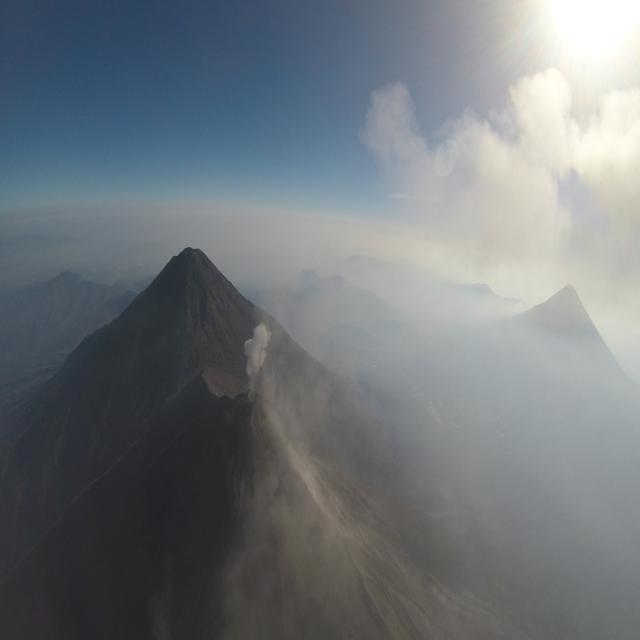Plume: (363, 59, 574, 274), (576, 72, 640, 232), (242, 320, 274, 388)
Summit: (222, 388, 268, 413)
